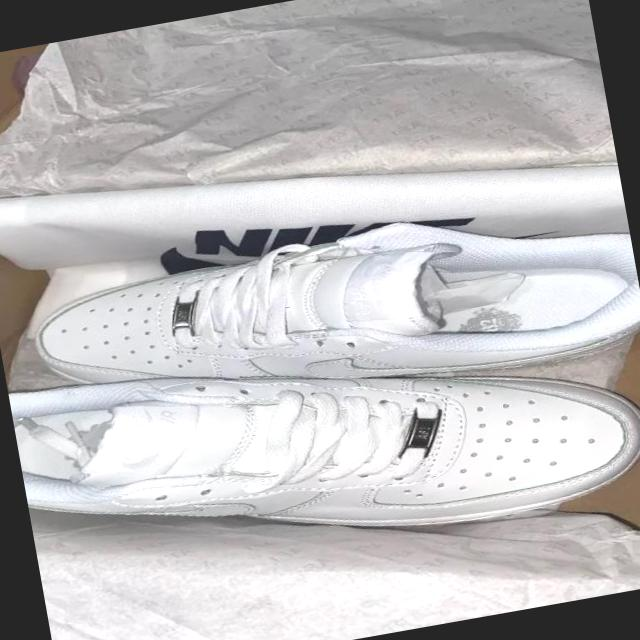nike_fake_airforce: (7, 281, 640, 600), (18, 181, 640, 445)
